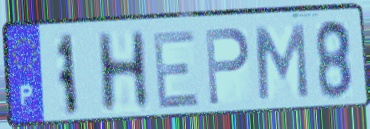1: (54, 31, 81, 120)
8: (313, 17, 354, 102)
E: (150, 26, 202, 111)
H: (93, 27, 153, 117)
M: (253, 21, 311, 103)
P: (202, 25, 252, 108)
